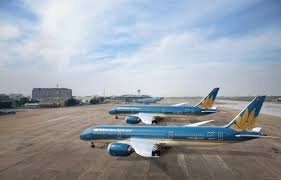maybay_dansu: (82, 119, 272, 157), (108, 94, 224, 118)
